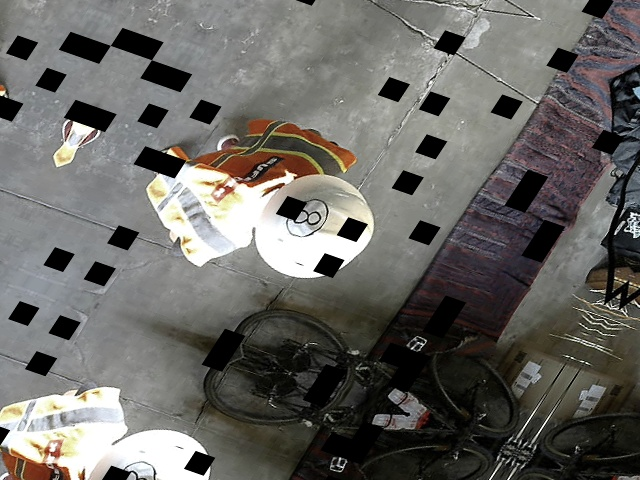eight: (277, 193, 336, 241)
